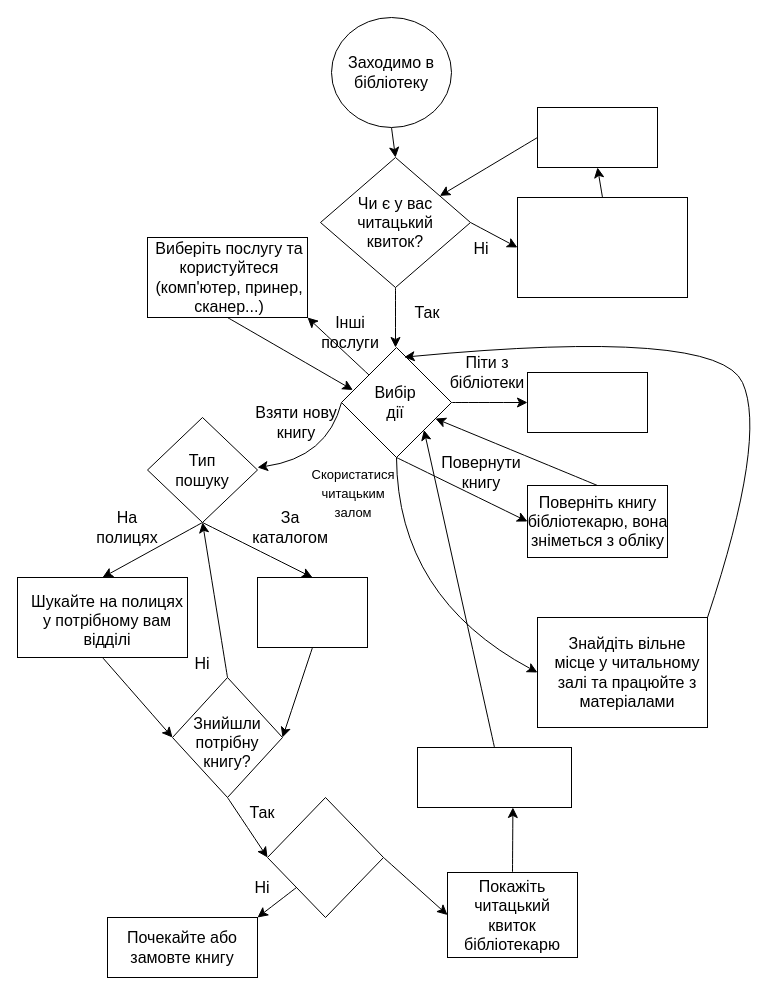
The diagram is 768 pixels wide and 995 high, and some of its shapes have lost their labels. The box of each missing label's shape, as (x1, y1, x2, y2) in pixels:
Бібліотекар оформляє книгу на видачу: (416, 746, 572, 808)
Заповніть форму реєстрації (можливо заплатіть внесок): (516, 196, 688, 298)
Книга доступна?: (266, 796, 384, 918)
Отримайте читацький квиток: (536, 106, 658, 168)
Шукайте за каталогом: (256, 576, 368, 648)
Ідіть з бібліотеки: (526, 372, 648, 432)
